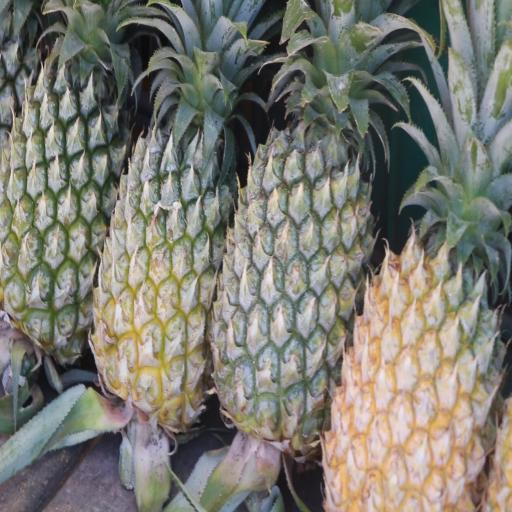------------------------------: (87, 0, 235, 449)
Pineapple - v8 v1: (320, 136, 501, 512)
